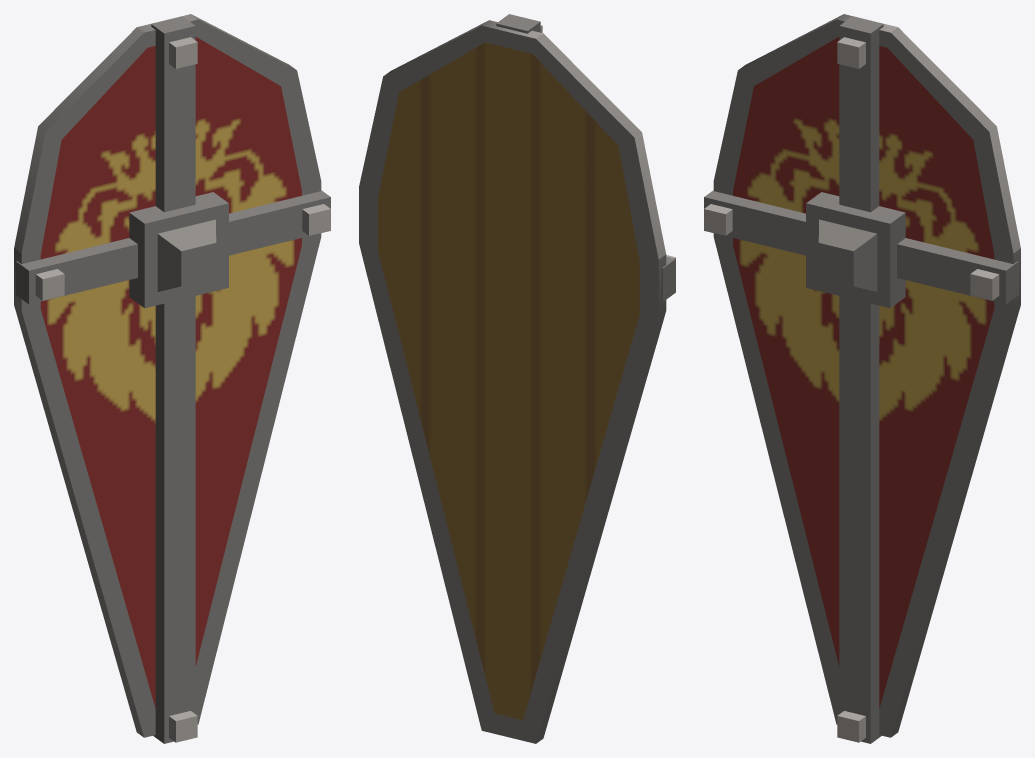
File: SF_Wep_KiteShield_Symbol_03.fbx
The picture shows the model from 3 angles, left to right: view 1: azimuth 30°, elevation 25°; view 2: azimuth 150°, elevation 25°; view 3: azimuth 330°, elevation 25°; orthographic projection.
Visible parts, largest first — view 1: SF_Wep_KiteShield_Symbol_03; view 2: SF_Wep_KiteShield_Symbol_03; view 3: SF_Wep_KiteShield_Symbol_03.
Boxes of the visible parts, x1,y1,x2,y2 form: SF_Wep_KiteShield_Symbol_03: (14, 14, 330, 743); SF_Wep_KiteShield_Symbol_03: (359, 14, 675, 743); SF_Wep_KiteShield_Symbol_03: (704, 14, 1020, 743).
Bounding box in the file's own units: 0.9946 × 2.24 × 0.1992.
